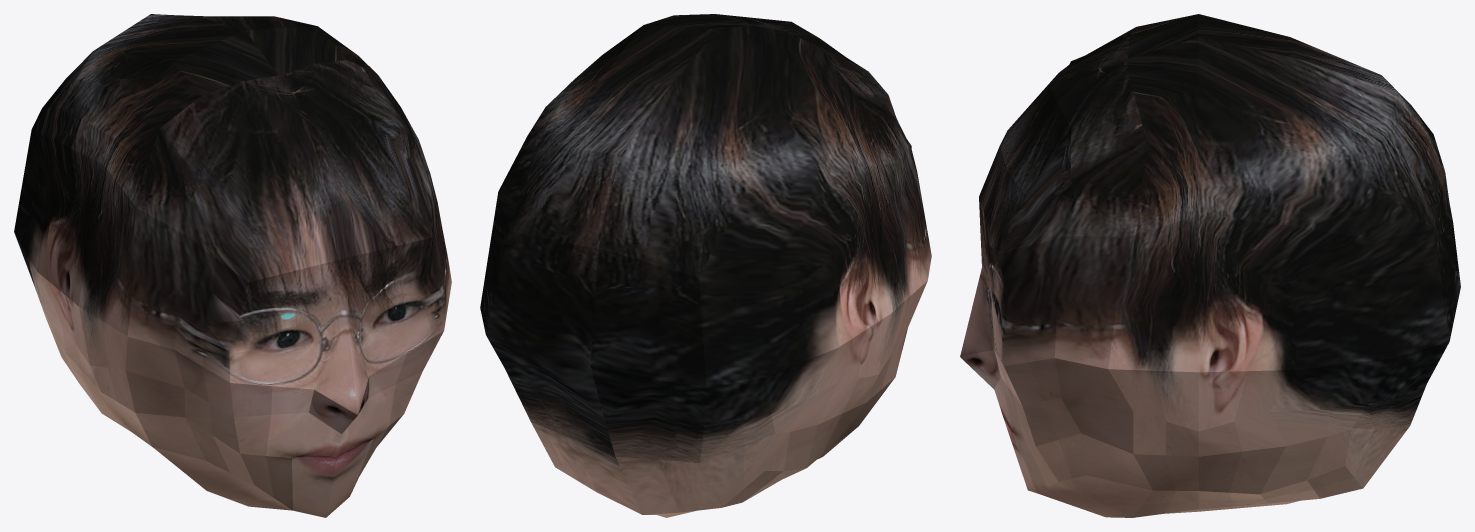
Rendered from myface.glb.
3 renders of one model, left to right at view 1: azimuth 30°, elevation 25°; view 2: azimuth 150°, elevation 25°; view 3: azimuth 270°, elevation 25°, orthographic. The views are drawn at different scales.
Parts seen in each view (by area): view 1: 立方体; view 2: 立方体; view 3: 立方体.
Boxes of the visible parts, x1=… form: 立方体: x1=14, y1=14, x2=451, y2=517; 立方体: x1=480, y1=14, x2=931, y2=517; 立方体: x1=960, y1=14, x2=1460, y2=517.
Size of the model in its own units: 3.88 by 4.99 by 4.78.
1 material, 1 textured.
